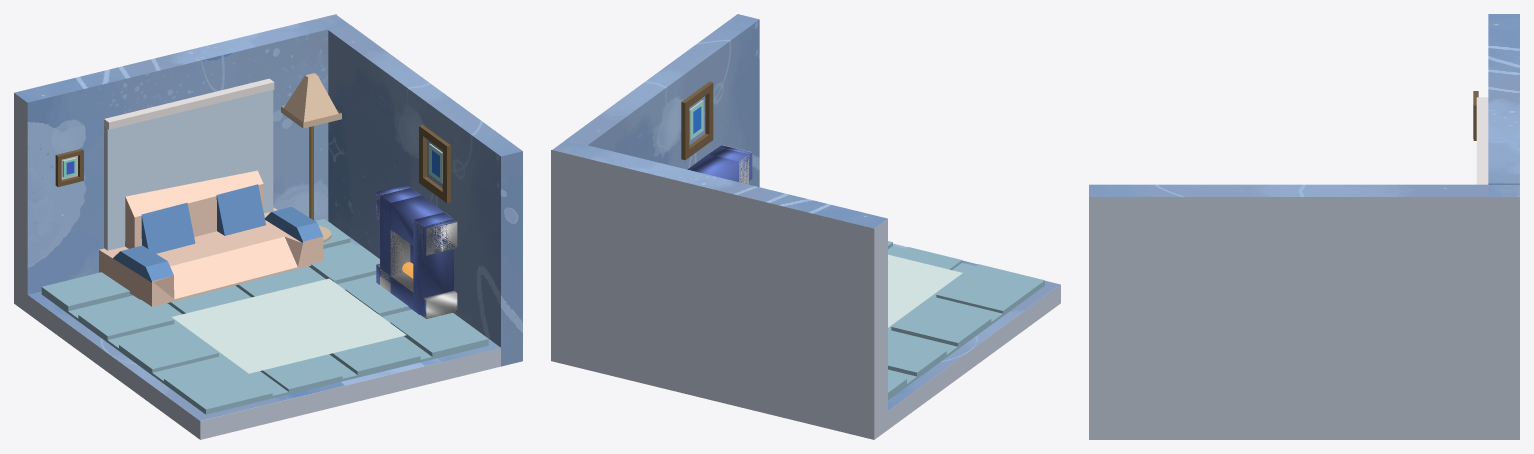
Rendered from kamarcowo.glb.
3 views of the same model, side by side, from view 1: azimuth 30°, elevation 25°; view 2: azimuth 150°, elevation 25°; view 3: azimuth 270°, elevation 25° (orthographic). The views are drawn at different scales.
Visible parts, largest first — view 1: Plane.005, Cube.011, Cube.009, Plane.003, Cube.008, Cube.010, Cube.007, Cube.012; view 2: Plane.005, Cube.011, Plane.003, Cube.007, Cube.008; view 3: Plane.005.
Part boxes in pixels (bbox=[...]): Plane.005: bbox=[14, 14, 522, 439]; Cube.011: bbox=[41, 219, 488, 414]; Cube.009: bbox=[99, 170, 323, 306]; Plane.003: bbox=[172, 278, 406, 373]; Cube.008: bbox=[376, 185, 457, 318]; Cube.010: bbox=[281, 73, 341, 242]; Cube.007: bbox=[419, 125, 450, 203]; Cube.012: bbox=[55, 148, 83, 186]; Plane.005: bbox=[551, 14, 1060, 439]; Cube.011: bbox=[888, 241, 1044, 400]; Plane.003: bbox=[888, 254, 962, 327]; Cube.007: bbox=[681, 81, 713, 160]; Cube.008: bbox=[687, 144, 752, 184]; Plane.005: bbox=[1089, 14, 1519, 439].
Bounding box in the file's own units: 2 × 1.25 × 2.
Materials: 21 (1 with a texture image).
